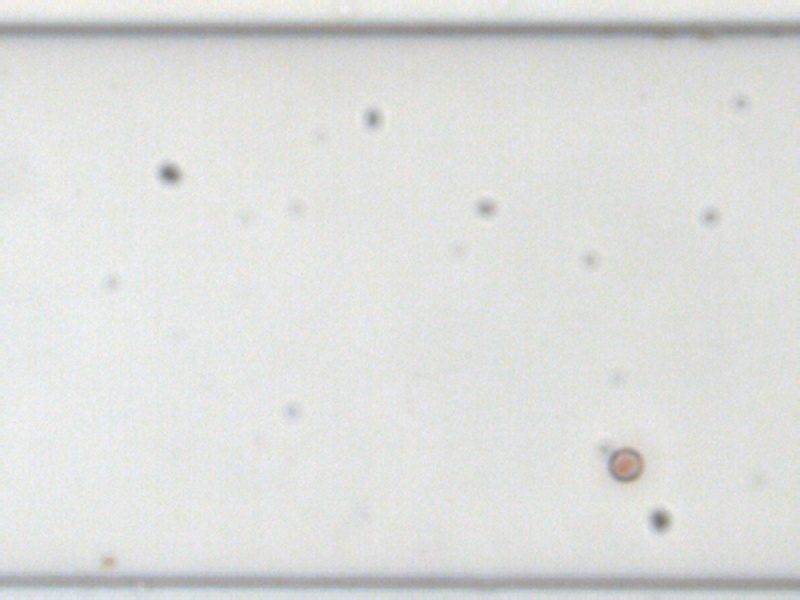Porphyridium: (606, 446, 643, 483), (98, 551, 117, 568)
